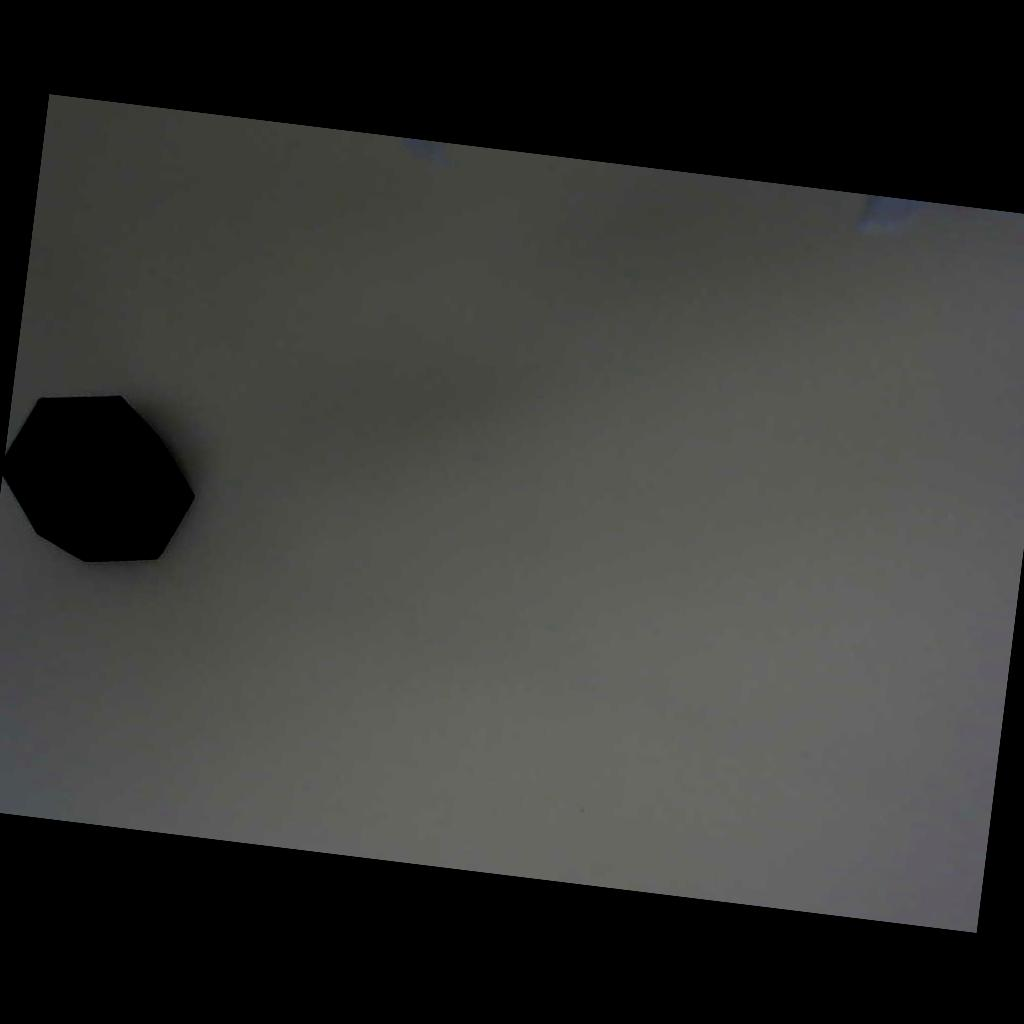hexagon: (0, 334, 235, 625)
